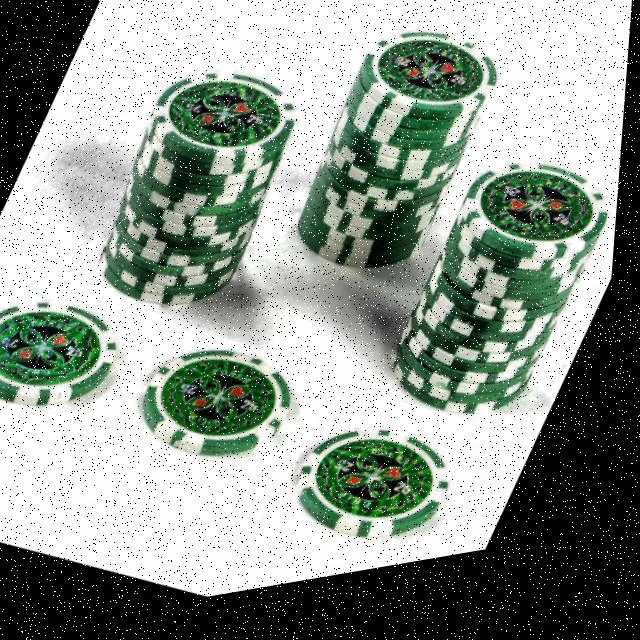Chip: (57, 31, 334, 355), (369, 140, 627, 476), (266, 0, 530, 324), (274, 393, 492, 598), (126, 318, 322, 505), (0, 253, 158, 457)
